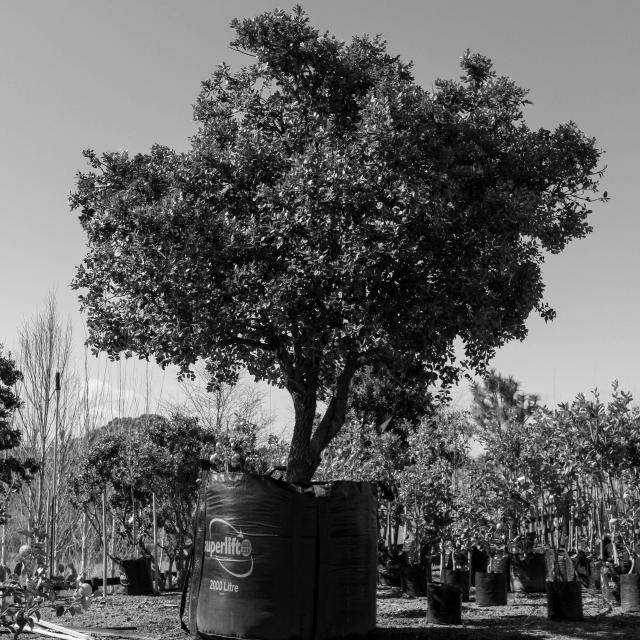Pohutukawa: (77, 8, 608, 488)
